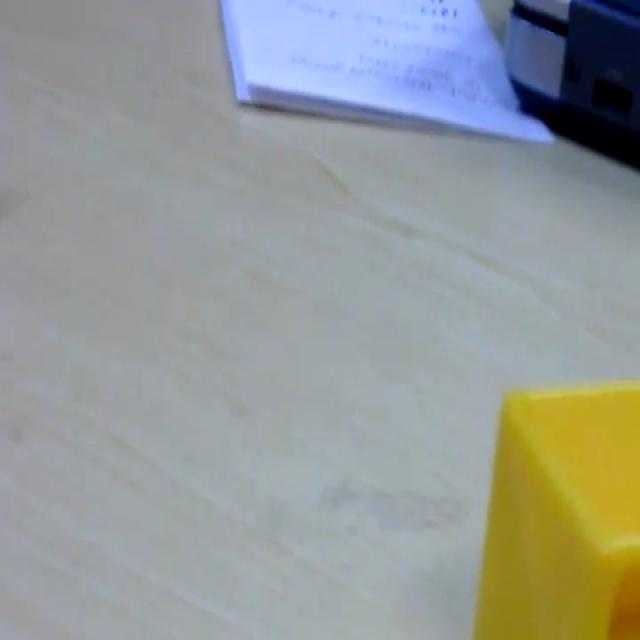yellow_block: (471, 379, 639, 636)
